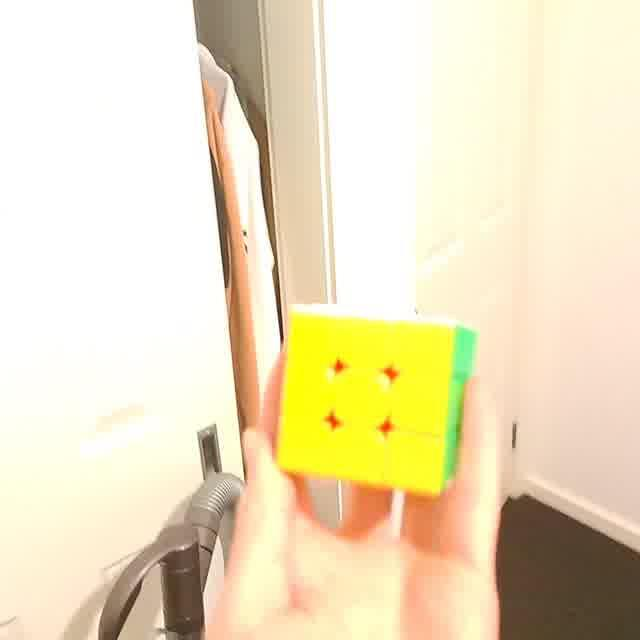rubix_cube: (273, 302, 480, 501)
